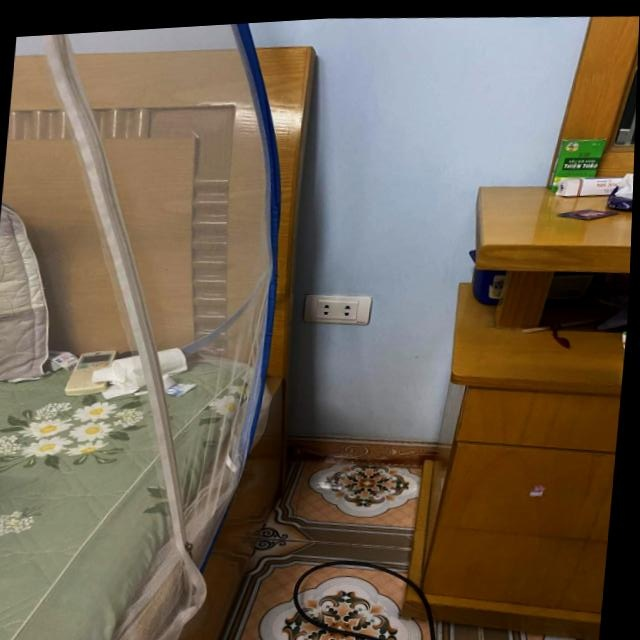outlet: (303, 289, 374, 329)
